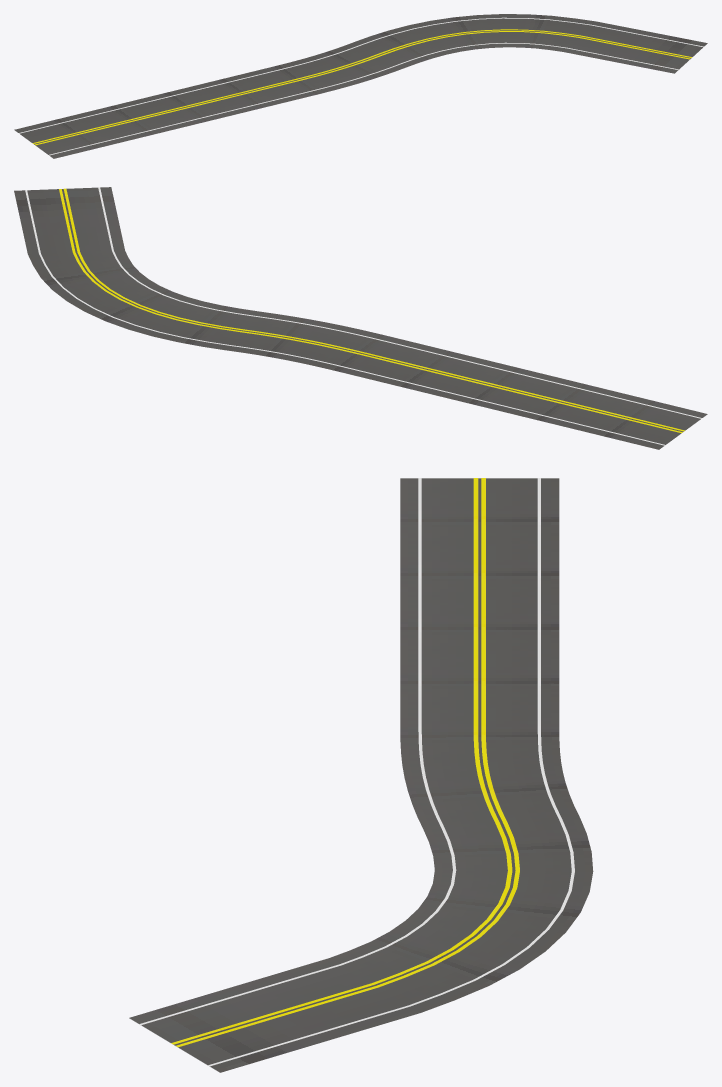
File: Road0.fbx
The picture shows the model from 3 angles, top to bottom: view 1: azimuth 30°, elevation 25°; view 2: azimuth 150°, elevation 25°; view 3: azimuth 270°, elevation 25°; orthographic projection. The views are drawn at different scales.
Parts seen in each view (by area): view 1: SM_Road_01.mo; view 2: SM_Road_01.mo; view 3: SM_Road_01.mo.
Part boxes in pixels (left/top/right/bottom): SM_Road_01.mo: left=14, top=14, right=707, bottom=158; SM_Road_01.mo: left=14, top=187, right=707, bottom=449; SM_Road_01.mo: left=129, top=478, right=593, bottom=1072.
Bounding box in the file's own units: 5982 × 0.6003 × 1975.
